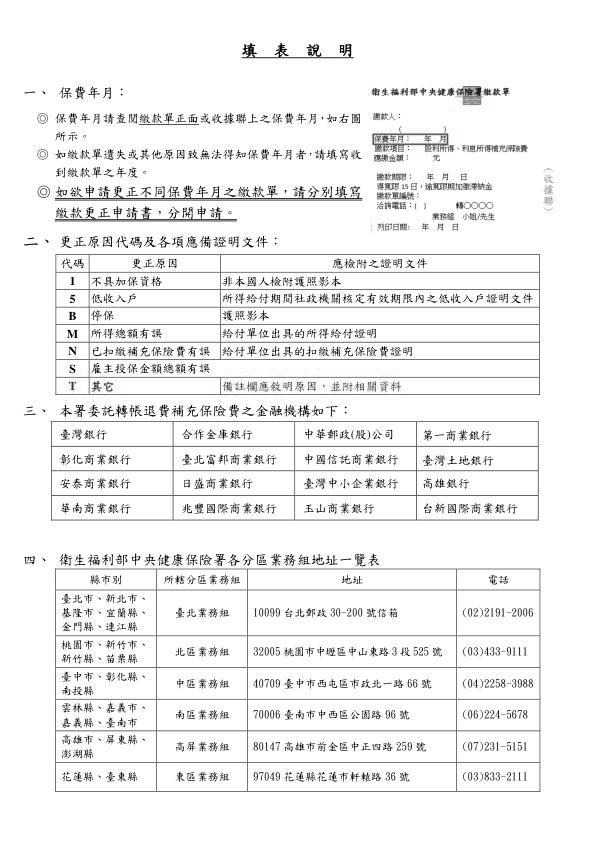table: (51, 568, 546, 798), (49, 249, 544, 398), (48, 420, 542, 523)
text: (53, 183, 364, 225), (53, 107, 362, 143), (54, 147, 363, 180), (16, 401, 354, 418), (21, 552, 387, 566), (18, 230, 281, 249), (233, 35, 366, 67), (16, 81, 129, 104)
